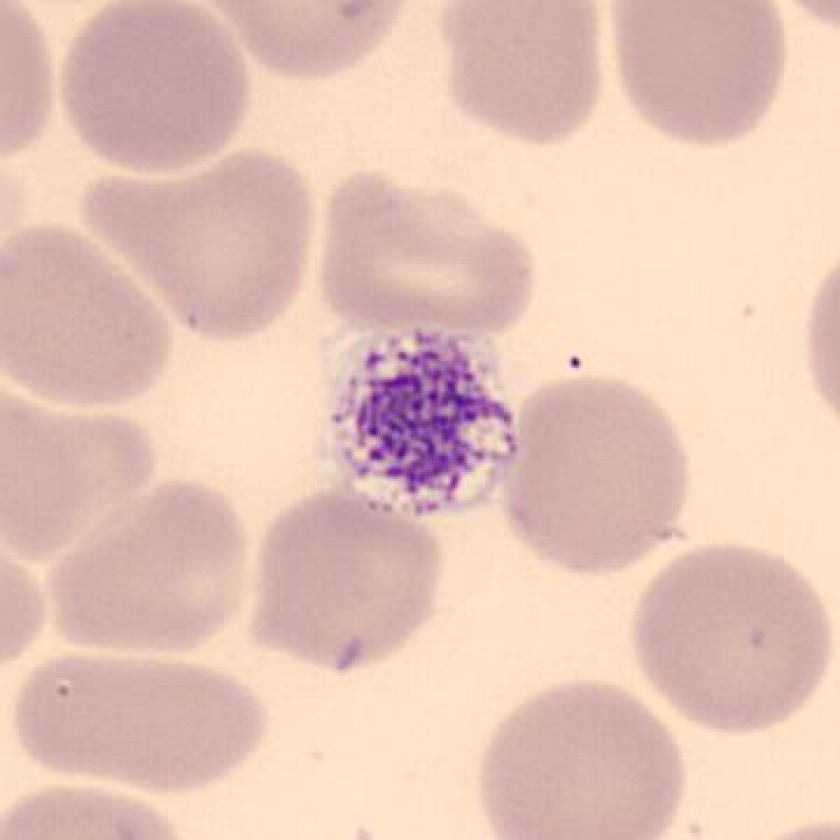platelets: (323, 323, 524, 517)
